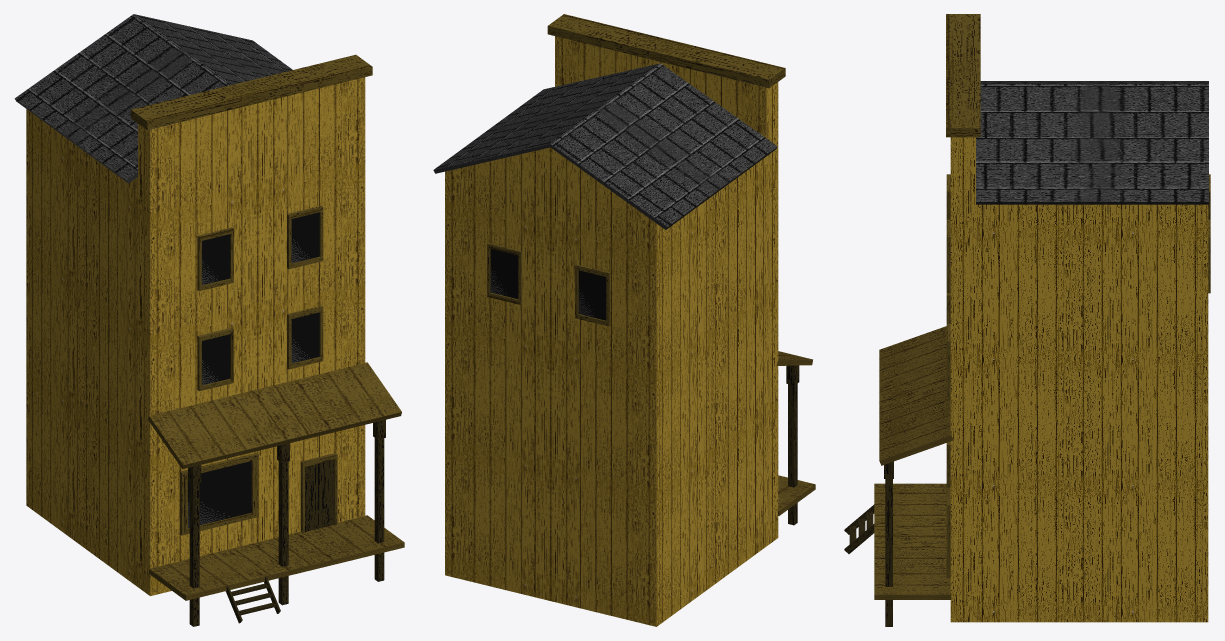
The model's file is WildWestBuilding4.fbx.
The picture shows the model from 3 angles, left to right: view 1: azimuth 30°, elevation 25°; view 2: azimuth 150°, elevation 25°; view 3: azimuth 270°, elevation 25°; orthographic projection. The views are drawn at different scales.
Parts seen in each view (by area): view 1: Cube, Cube.001, Cube.006, Cube.008, Cube.007, Cube.005, Cube.002, Cube.009, Cube.003, Cube.004; view 2: Cube, Cube.006, Cube.007, Cube.008, Cube.005, Cube.002, Cube.001; view 3: Cube, Cube.006, Cube.001, Cube.007, Cube.005, Cube.002, Cube.003.
Boxes of the visible parts, <box> form: Cube: <box>26,77,365,595</box>; Cube.001: <box>148,362,404,600</box>; Cube.006: <box>14,14,292,183</box>; Cube.008: <box>188,212,319,527</box>; Cube.007: <box>130,54,372,130</box>; Cube.005: <box>180,205,323,535</box>; Cube.002: <box>188,420,385,626</box>; Cube.009: <box>305,460,334,531</box>; Cube.003: <box>226,576,280,623</box>; Cube.004: <box>300,453,337,532</box>; Cube: <box>445,36,778,626</box>; Cube.006: <box>433,63,777,229</box>; Cube.007: <box>547,14,785,88</box>; Cube.008: <box>490,249,606,320</box>; Cube.005: <box>487,243,610,326</box>; Cube.002: <box>786,365,799,525</box>; Cube.001: <box>777,351,815,515</box>; Cube: <box>950,137,1208,622</box>; Cube.006: <box>976,81,1208,204</box>; Cube.001: <box>874,326,953,599</box>; Cube.007: <box>946,14,980,137</box>; Cube.005: <box>946,174,1210,487</box>; Cube.002: <box>884,461,893,626</box>; Cube.003: <box>844,504,874,553</box>.
Bounding box in the file's own units: 1742 × 3409 × 2232.
5 materials, 5 textured.
